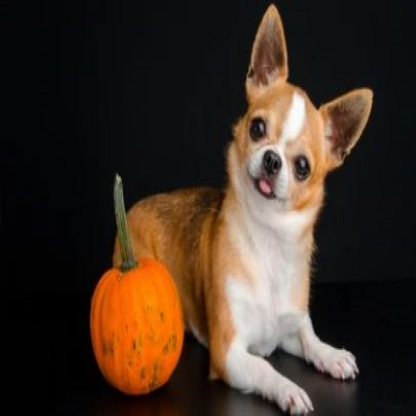chihuahua: (114, 6, 375, 416)
